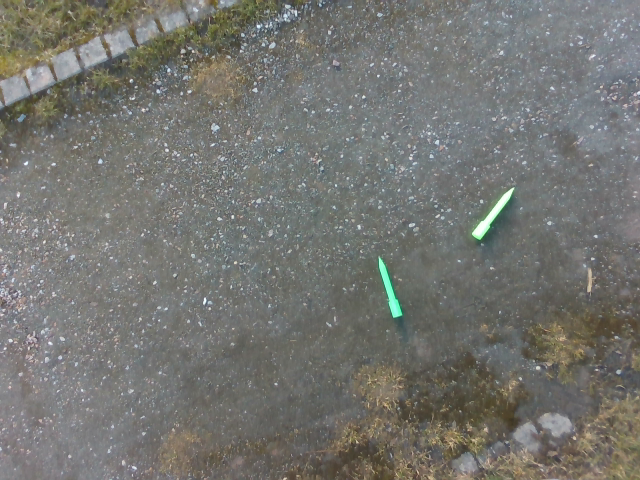Probe: (468, 184, 517, 247), (371, 247, 408, 324)
